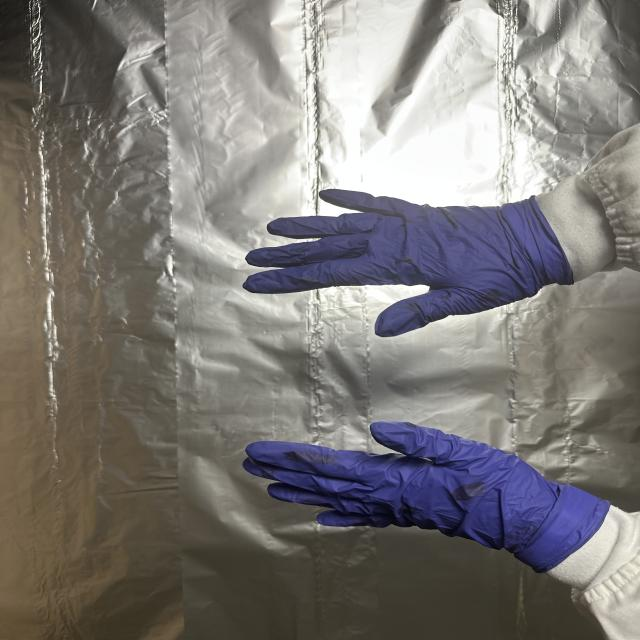gloves_contaminated: (247, 422, 609, 571), (243, 190, 573, 336)
